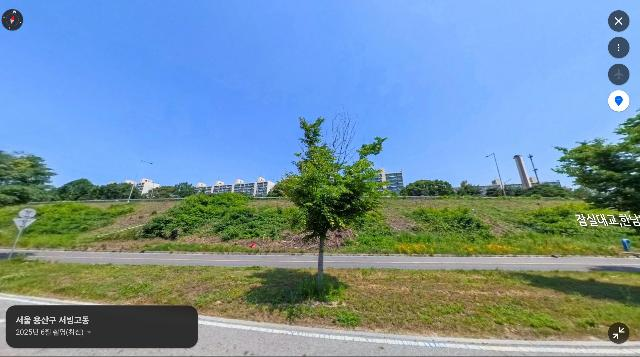other: (271, 106, 391, 303), (551, 107, 640, 220), (0, 148, 59, 209), (479, 183, 572, 201), (398, 179, 455, 199), (58, 178, 93, 201), (89, 181, 131, 200)
